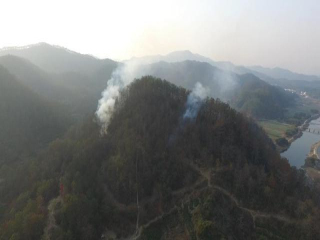smoke: (92, 60, 137, 138), (179, 80, 208, 125)
